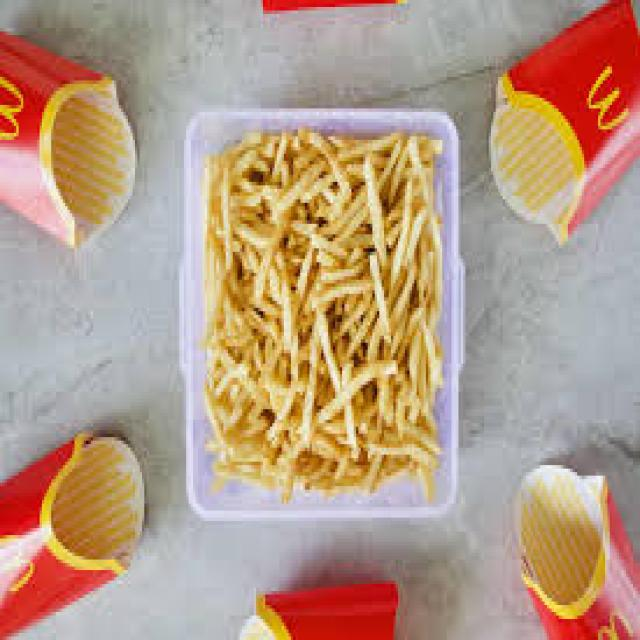fries: (202, 127, 444, 502)
